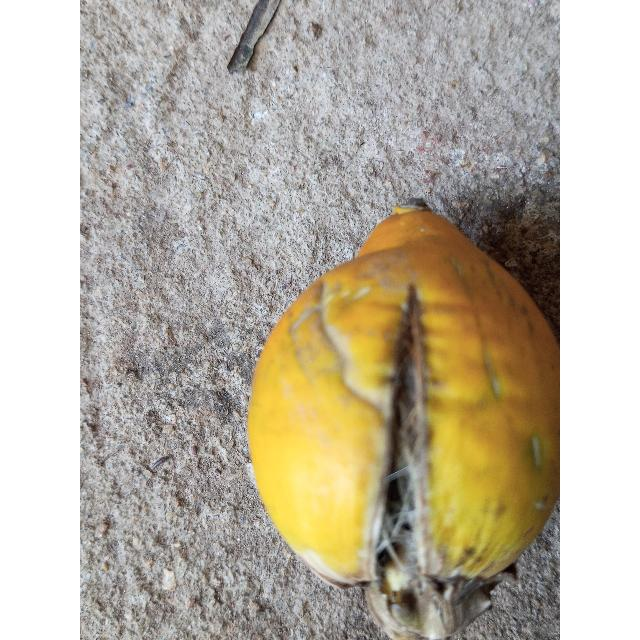damaged: (247, 208, 560, 638)
